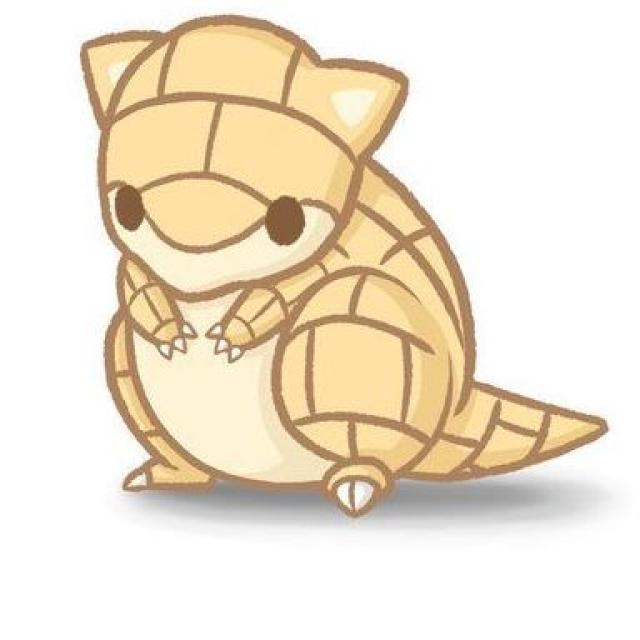Sandshrew: (79, 20, 476, 502)
